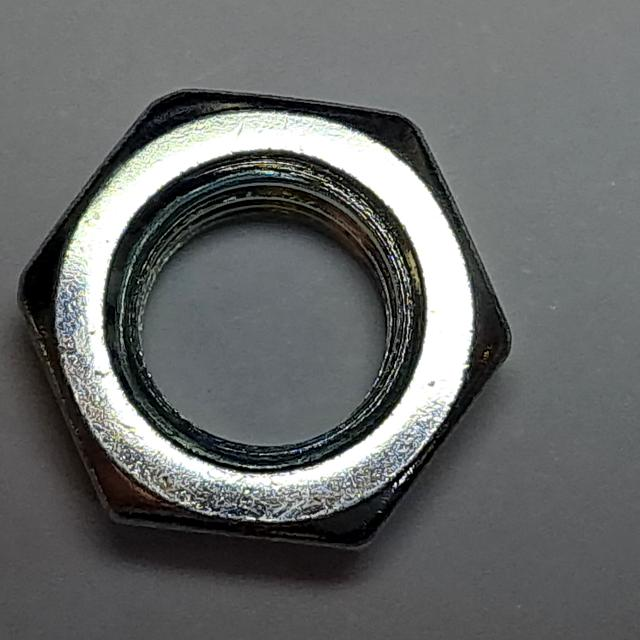Excellent: (8, 78, 524, 567)
